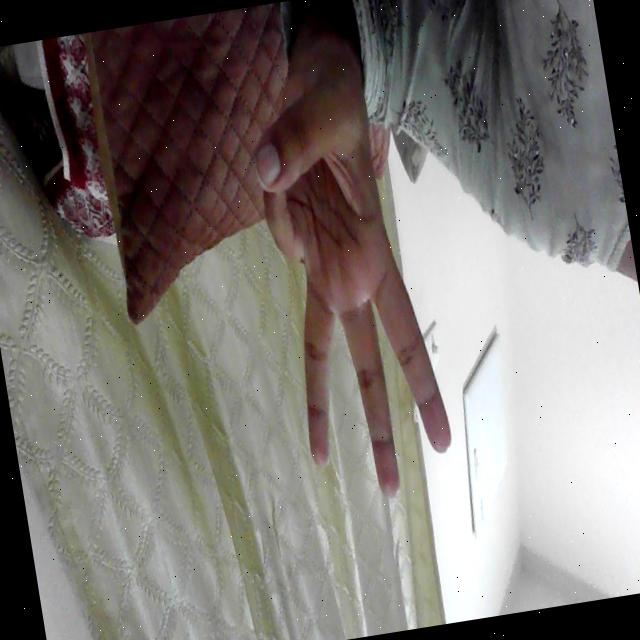Trishula: (224, 61, 482, 526)
